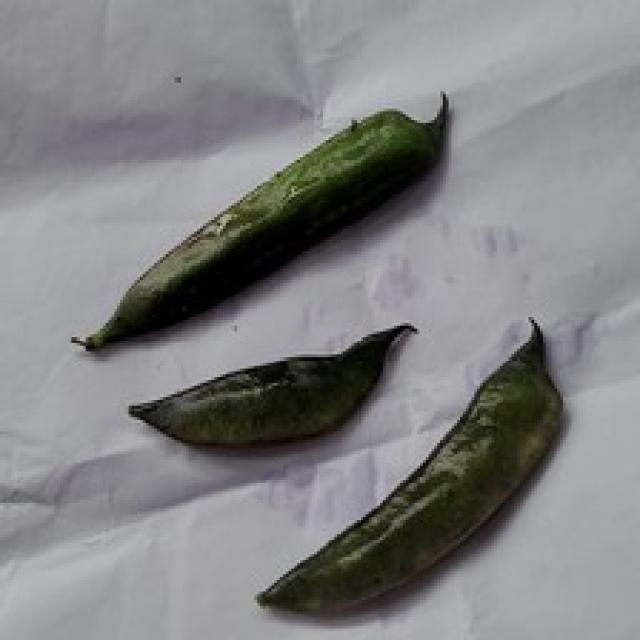Bean: (69, 88, 448, 352), (254, 314, 563, 614), (126, 320, 417, 449)
